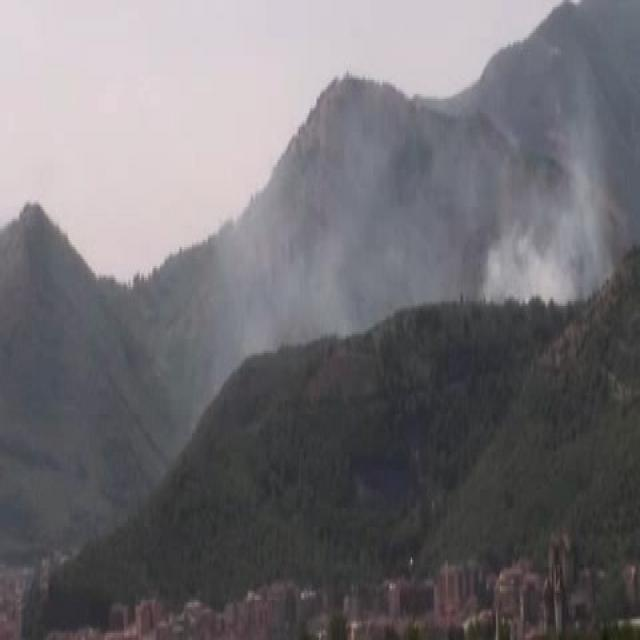smoke: (287, 93, 608, 297)
